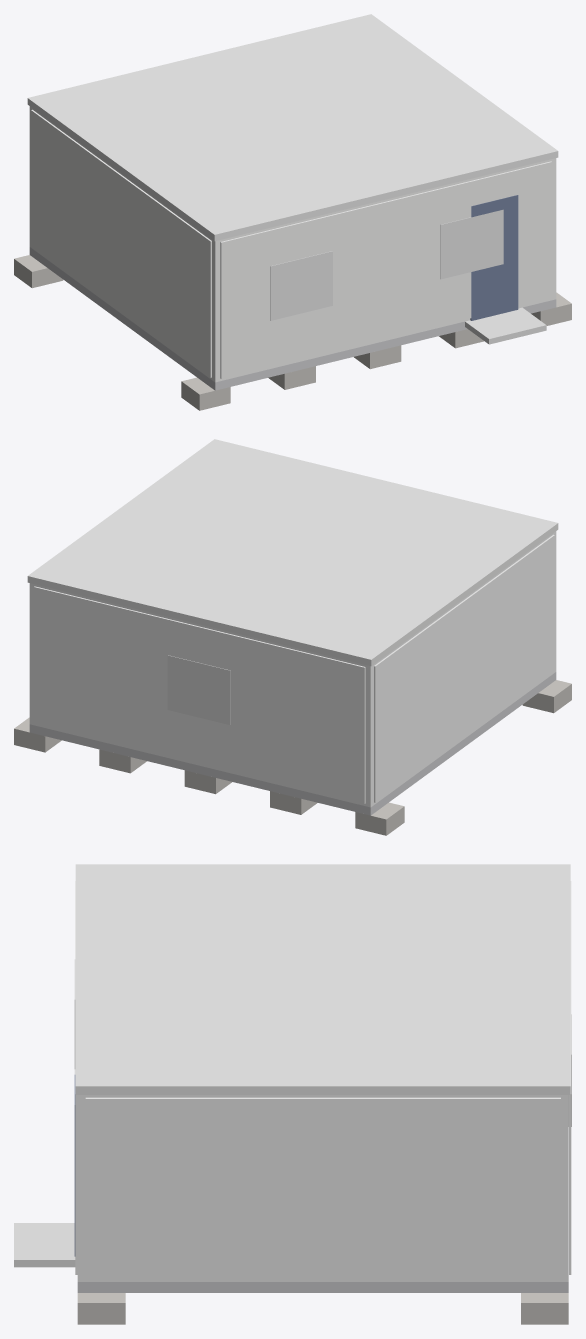
Rendered from Studio-20-Village-LOD0.glb.
3 views of the same model, one above another, from view 1: azimuth 30°, elevation 25°; view 2: azimuth 150°, elevation 25°; view 3: azimuth 270°, elevation 25° (orthographic). The views are drawn at different scales.
Parts seen in each view (by area): view 1: RoofMain, ExteriorPanelsStandard, WindowsStandard, FoundationBlocks, ExteriorShell, BaseFrame, EntryDoor, AccessibilityVillage; view 2: ExteriorPanelsStandard, RoofMain, FoundationBlocks, ExteriorShell, BaseFrame, WindowsStandard; view 3: RoofMain, ExteriorPanelsStandard, ExteriorShell, BaseFrame, FoundationBlocks, AccessibilityVillage.
Boxes of the visible parts, <box> form: RoofMain: <box>27,14,558,241</box>; ExteriorPanelsStandard: <box>31,109,551,378</box>; WindowsStandard: <box>270,209,503,320</box>; FoundationBlocks: <box>14,255,571,410</box>; ExteriorShell: <box>29,106,556,382</box>; BaseFrame: <box>29,247,556,390</box>; EntryDoor: <box>470,195,518,320</box>; AccessibilityVillage: <box>465,307,546,344</box>; ExteriorPanelsStandard: <box>34,534,554,803</box>; RoofMain: <box>27,439,558,666</box>; FoundationBlocks: <box>14,680,571,835</box>; ExteriorShell: <box>29,531,556,807</box>; BaseFrame: <box>29,672,556,815</box>; WindowsStandard: <box>167,655,230,724</box>; RoofMain: <box>75,864,570,1094</box>; ExteriorPanelsStandard: <box>75,881,571,1279</box>; ExteriorShell: <box>77,1095,568,1281</box>; BaseFrame: <box>77,1282,568,1292</box>; FoundationBlocks: <box>77,1293,568,1324</box>; AccessibilityVillage: <box>14,1223,75,1267</box>.
Bounding box in the file's own units: 7.14 × 3.17 × 7.
